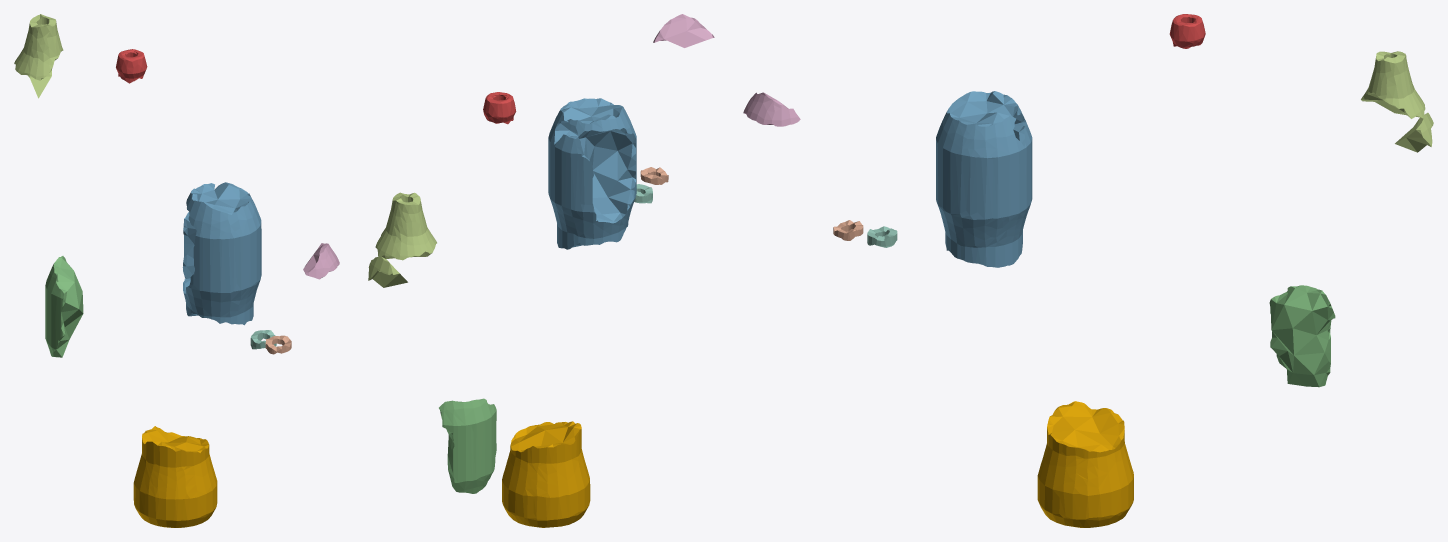
File: fractured_78_8pcs_transformed.glb
3 renders of one model, left to right at view 1: azimuth 30°, elevation 25°; view 2: azimuth 150°, elevation 25°; view 3: azimuth 270°, elevation 25°, orthographic. The views are drawn at different scales.
Visible parts, largest first — view 1: piece_2.obj, piece_0.obj, piece_3.obj, piece_5.obj, piece_1.obj, piece_6.obj, piece_7.obj; view 2: piece_2.obj, piece_0.obj, piece_3.obj, piece_5.obj, piece_6.obj, piece_1.obj, piece_7.obj; view 3: piece_2.obj, piece_0.obj, piece_3.obj, piece_5.obj, piece_6.obj, piece_1.obj.
Part boxes in pixels (left/top/right/bottom): piece_2.obj: left=182, top=182, right=261, bottom=325; piece_0.obj: left=133, top=426, right=217, bottom=527; piece_3.obj: left=45, top=256, right=83, bottom=357; piece_5.obj: left=14, top=14, right=63, bottom=98; piece_1.obj: left=116, top=49, right=147, bottom=83; piece_6.obj: left=303, top=243, right=339, bottom=279; piece_7.obj: left=265, top=335, right=291, bottom=354; piece_2.obj: left=548, top=98, right=636, bottom=249; piece_0.obj: left=502, top=421, right=590, bottom=527; piece_3.obj: left=439, top=398, right=496, bottom=493; piece_5.obj: left=368, top=192, right=436, bottom=287; piece_6.obj: left=653, top=14, right=714, bottom=47; piece_1.obj: left=483, top=92, right=516, bottom=124; piece_7.obj: left=640, top=167, right=668, bottom=184; piece_2.obj: left=936, top=91, right=1032, bottom=267; piece_0.obj: left=1037, top=401, right=1133, bottom=527; piece_3.obj: left=1269, top=285, right=1335, bottom=387; piece_5.obj: left=1361, top=51, right=1433, bottom=152; piece_6.obj: left=743, top=92, right=800, bottom=126; piece_1.obj: left=1169, top=14, right=1205, bottom=48.
Bounding box in the file's own units: 0.2848 × 1.6 × 2.04.
